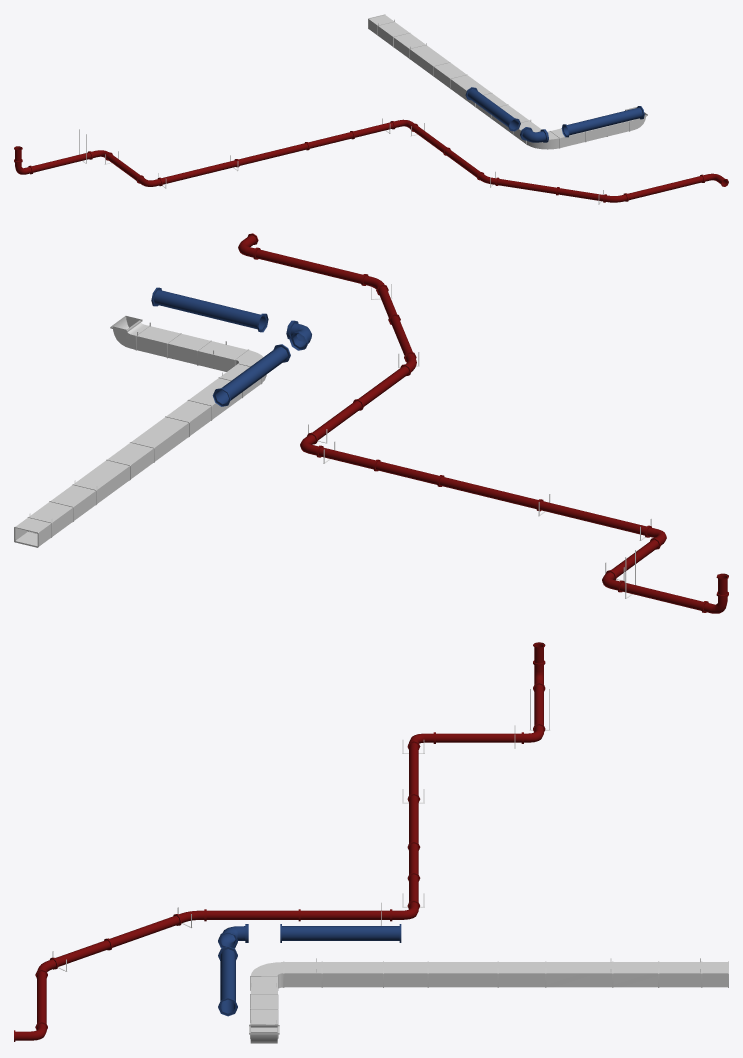
File: SM_H_Building_Tide_InterrogationRoom_13A_ATLAS.fbx
The picture shows the model from 3 angles, top to bottom: view 1: azimuth 30°, elevation 25°; view 2: azimuth 150°, elevation 25°; view 3: azimuth 270°, elevation 25°; orthographic projection. The views are drawn at different scales.
Visible parts, largest first — view 1: SM_H_Building_Tide_InterrogationRoom_13A_ATLAS; view 2: SM_H_Building_Tide_InterrogationRoom_13A_ATLAS; view 3: SM_H_Building_Tide_InterrogationRoom_13A_ATLAS.
Boxes of the visible parts, <box> form: SM_H_Building_Tide_InterrogationRoom_13A_ATLAS: <box>14,14,728,204</box>; SM_H_Building_Tide_InterrogationRoom_13A_ATLAS: <box>14,233,728,613</box>; SM_H_Building_Tide_InterrogationRoom_13A_ATLAS: <box>14,642,728,1043</box>.
Size of the model in its own units: 3264 by 2714 by 193.
